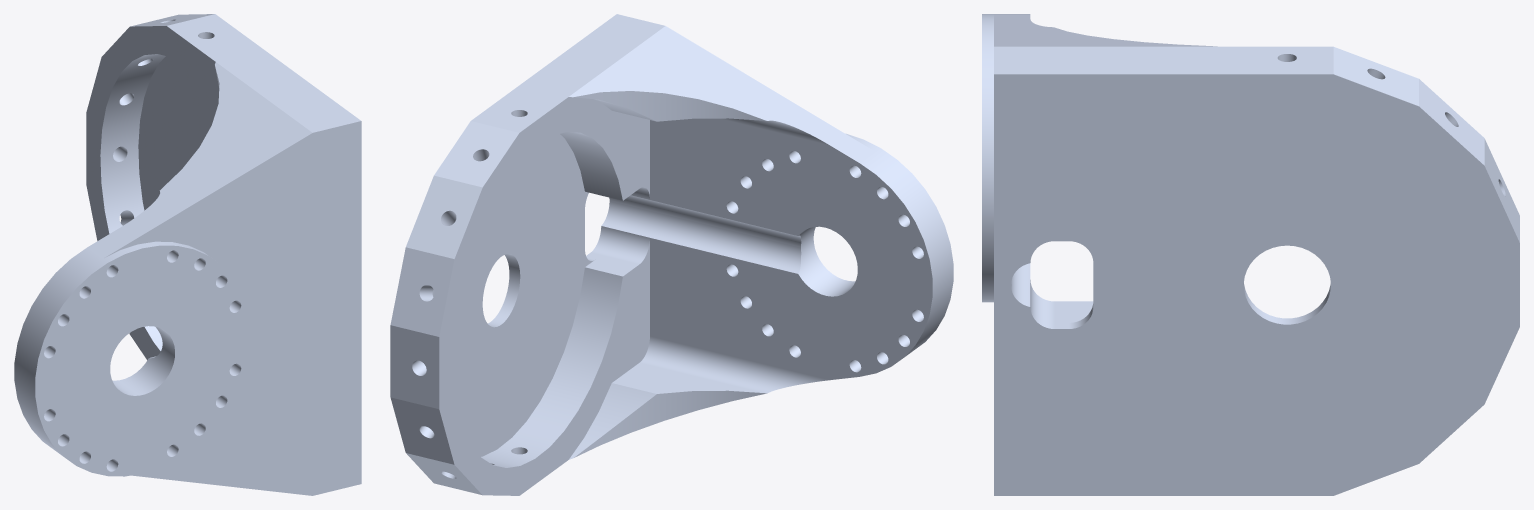
The picture shows the model from 3 angles, left to right: view 1: azimuth 30°, elevation 25°; view 2: azimuth 150°, elevation 25°; view 3: azimuth 270°, elevation 25°; orthographic projection. The views are drawn at different scales.
Visible parts, largest first — view 1: A_Joint_2_Hub; view 2: A_Joint_2_Hub; view 3: A_Joint_2_Hub.
Part boxes in pixels (<box>): A_Joint_2_Hub: <box>14,14,361,495</box>; A_Joint_2_Hub: <box>390,14,953,495</box>; A_Joint_2_Hub: <box>982,14,1519,495</box>.
Bounding box in the file's own units: 91.7 × 111 × 96.
